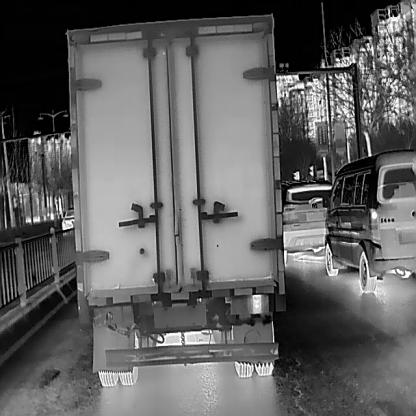car: (322, 146, 414, 292), (281, 180, 333, 264), (60, 206, 73, 235)
truck: (64, 11, 286, 386)
